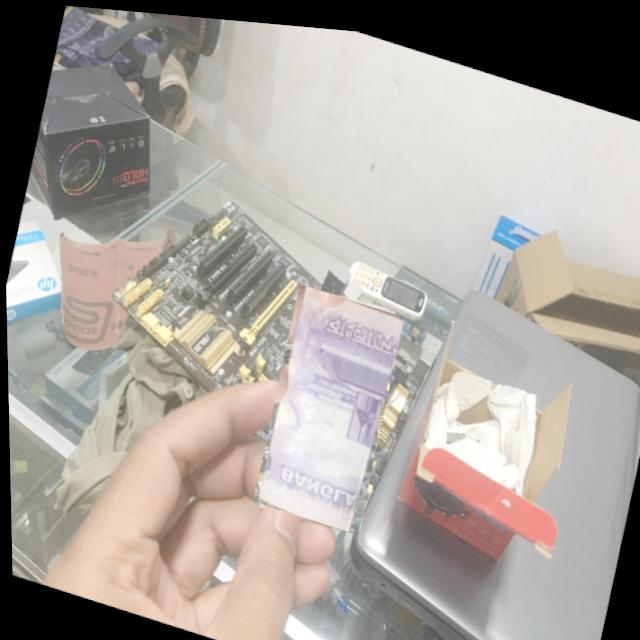Taka: (246, 274, 407, 531)
